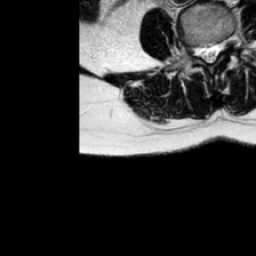CCS_normal: (206, 33, 212, 70)
LFS_normal: (220, 27, 230, 56)
LLS_normal: (212, 33, 220, 65)
RFS_normal: (190, 35, 198, 65)
RLS_normal: (198, 35, 206, 66)
